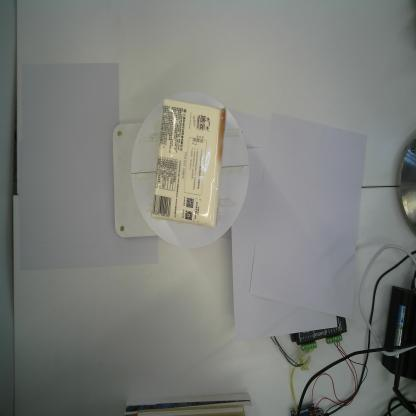Tissue: (148, 97, 228, 231)
